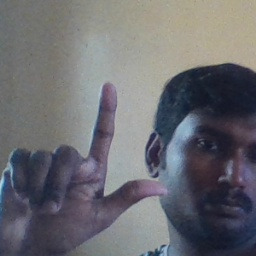L: (4, 80, 170, 255)
